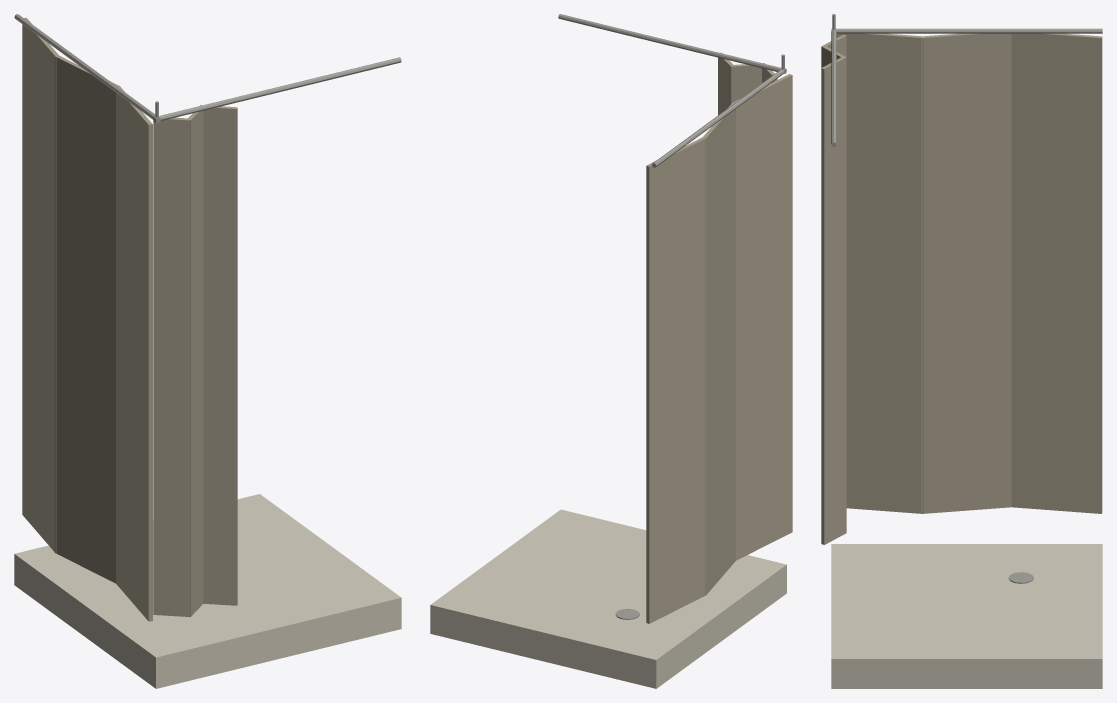
Rendered from shower-tray-curtain-r.glb.
3 views of the same model, side by side, from view 1: azimuth 30°, elevation 25°; view 2: azimuth 150°, elevation 25°; view 3: azimuth 270°, elevation 25° (orthographic). The views are drawn at different scales.
Parts seen in each view (by area): view 1: plastic-light, enamel, brushed; view 2: plastic-light, enamel, brushed; view 3: plastic-light, enamel, brushed.
Part boxes in pixels (<box>): plastic-light: <box>22,17,237,621</box>; enamel: <box>14,494,401,688</box>; brushed: <box>14,14,401,122</box>; plastic-light: <box>646,52,792,623</box>; enamel: <box>430,509,786,688</box>; brushed: <box>558,14,786,619</box>; plastic-light: <box>821,33,1102,544</box>; enamel: <box>831,544,1102,688</box>; brushed: <box>831,14,1102,583</box>.
Size of the model in its own units: 0.9248 by 2.05 by 0.9335.
